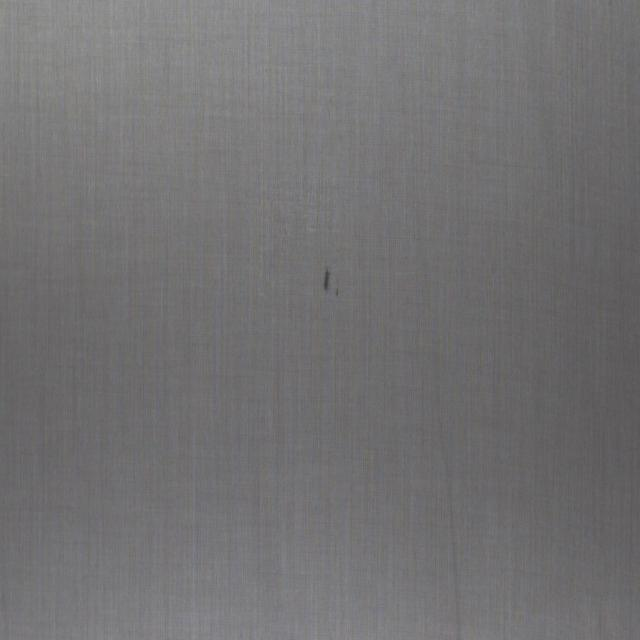dirty: (323, 267, 331, 291), (334, 285, 341, 297)
